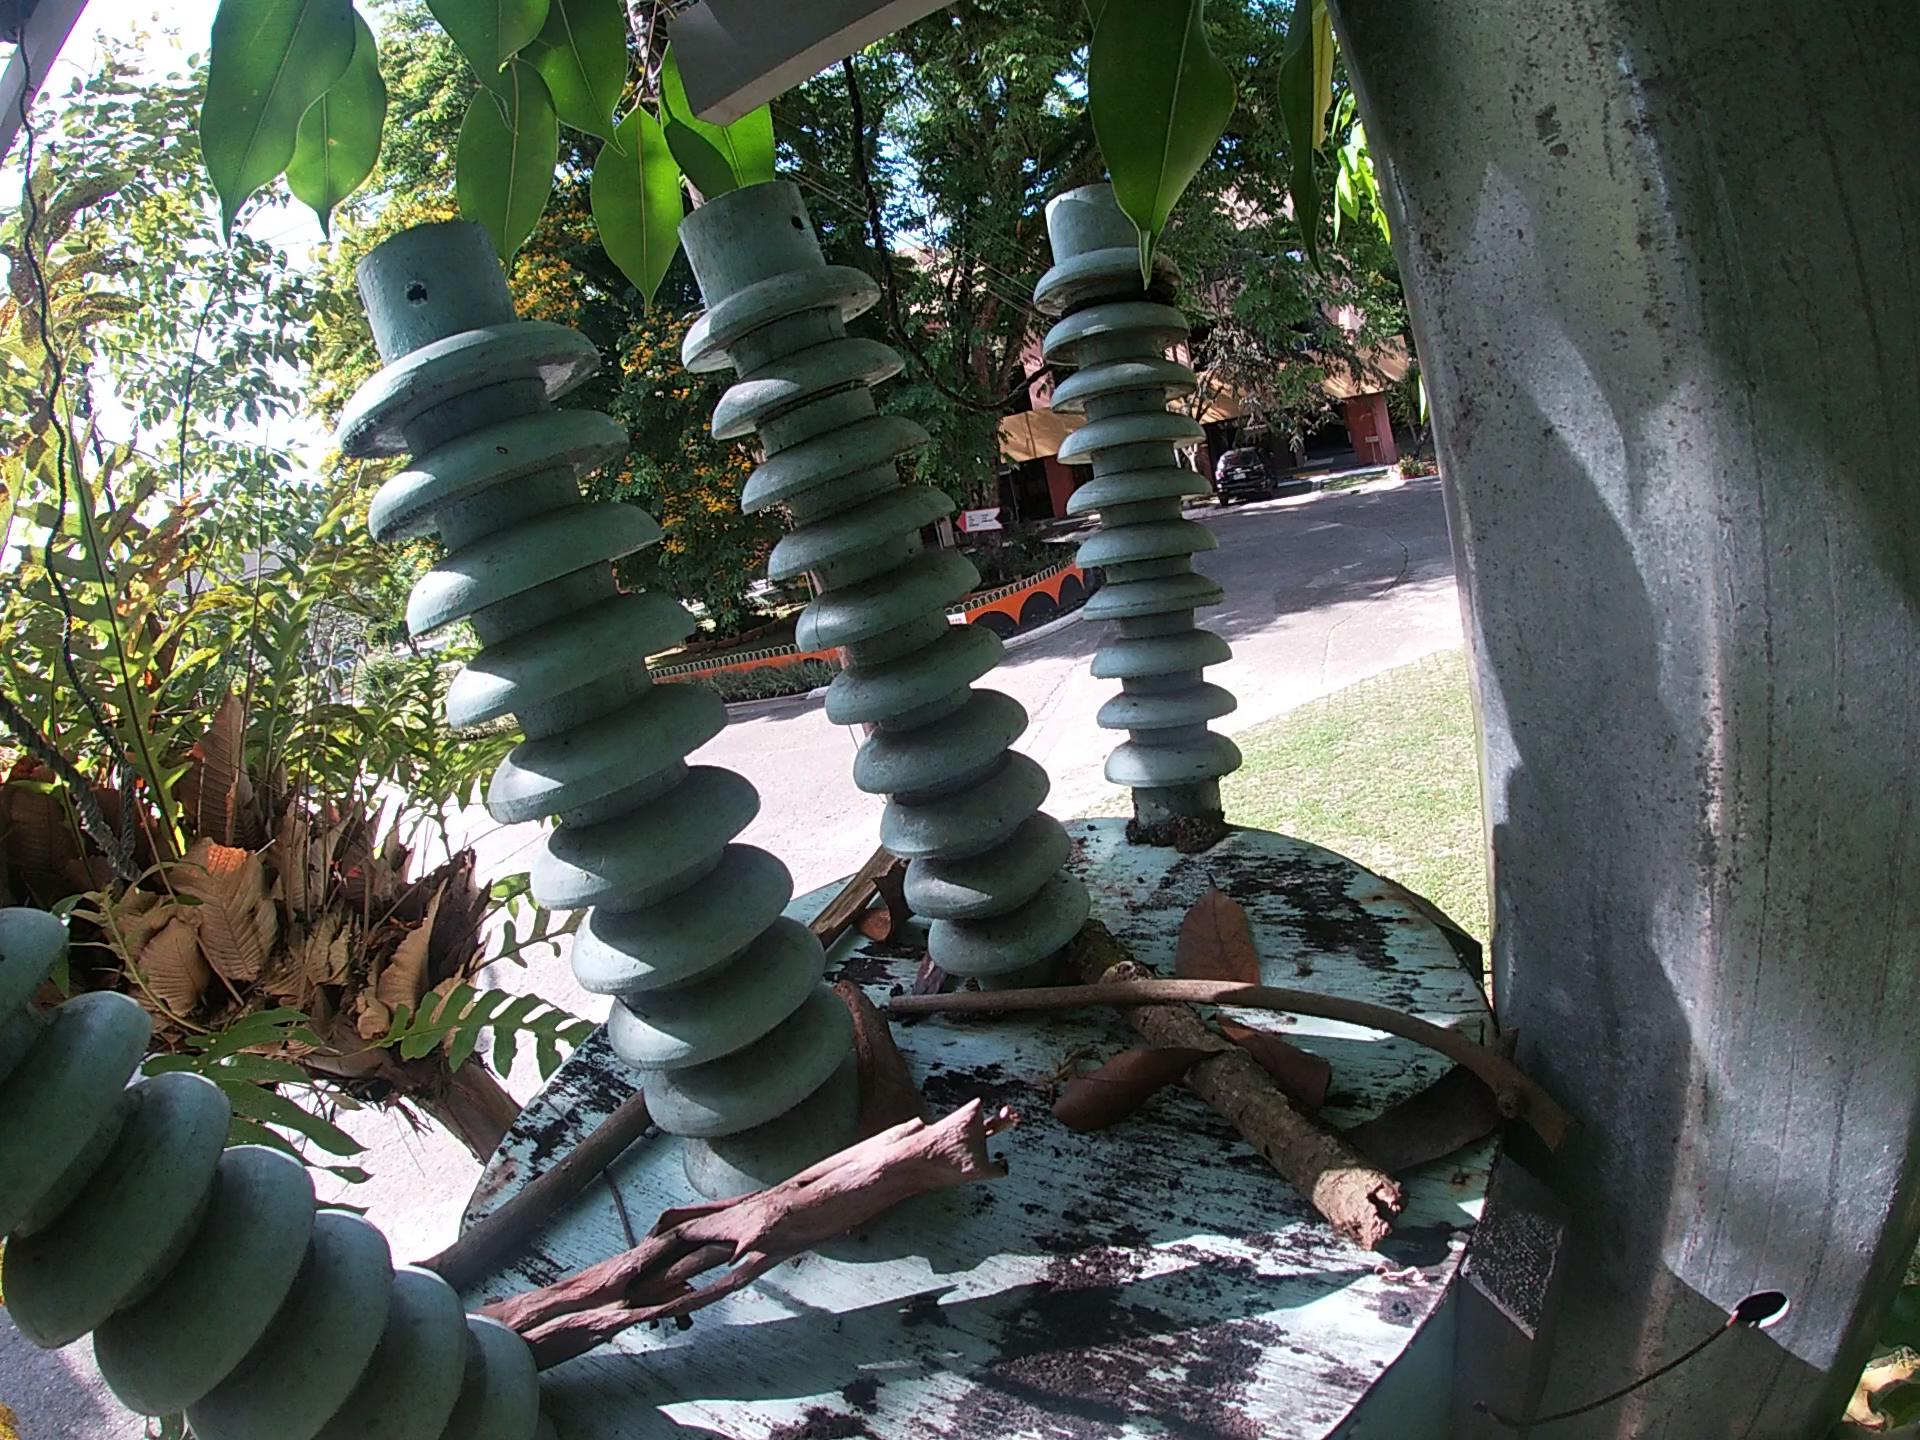leaf: (1346, 1029, 1528, 1172), (1054, 1033, 1237, 1134), (1217, 1001, 1341, 1119), (1172, 876, 1268, 992)
mahogany fruit: (825, 973, 924, 1145), (848, 861, 915, 953)
tree branch: (475, 1085, 1027, 1376), (872, 968, 1590, 1162), (1064, 917, 1414, 1255), (411, 1085, 658, 1302), (806, 846, 890, 953)
